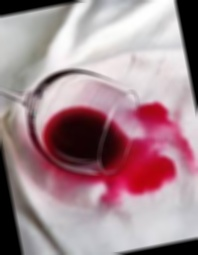wine: (43, 128, 179, 208), (129, 95, 195, 186)
